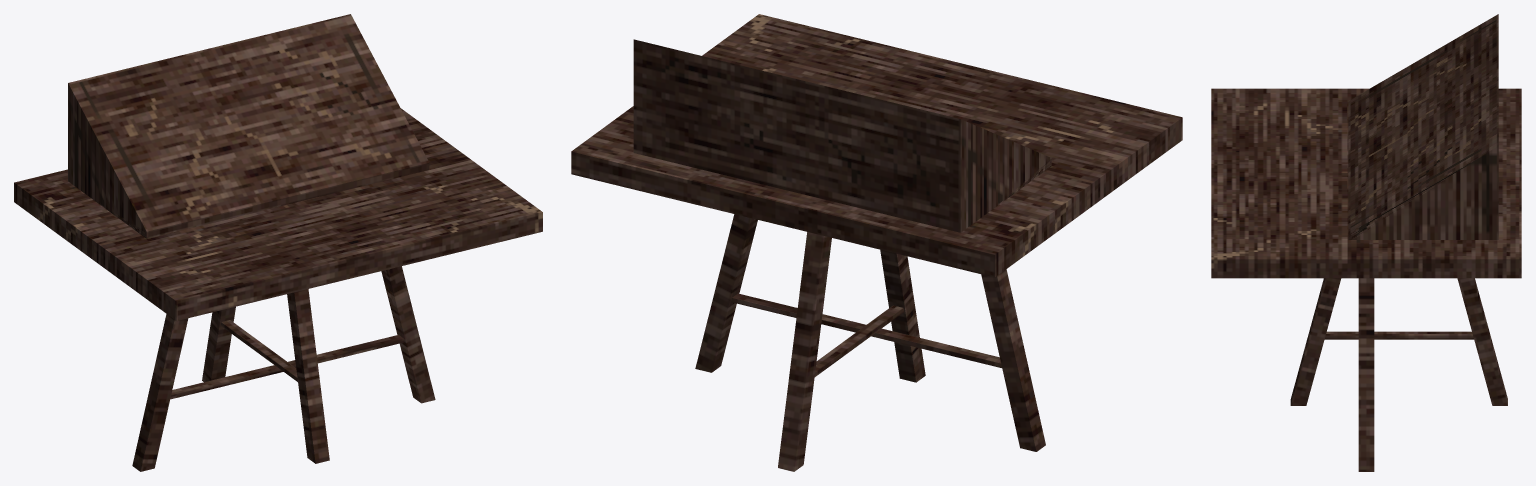
File: workdesk.glb
3 views of the same model, side by side, from view 1: azimuth 30°, elevation 25°; view 2: azimuth 150°, elevation 25°; view 3: azimuth 270°, elevation 25° (orthographic). The views are drawn at different scales.
Parts seen in each view (by area): view 1: desk_low; view 2: desk_low; view 3: desk_low.
Boxes of the visible parts, x1,y1,x2,y2 form: desk_low: [14, 14, 542, 471]; desk_low: [571, 14, 1182, 471]; desk_low: [1211, 14, 1521, 471].
Bounding box in the file's own units: 1.32 × 1.15 × 1.01.
1 material, 1 textured.
